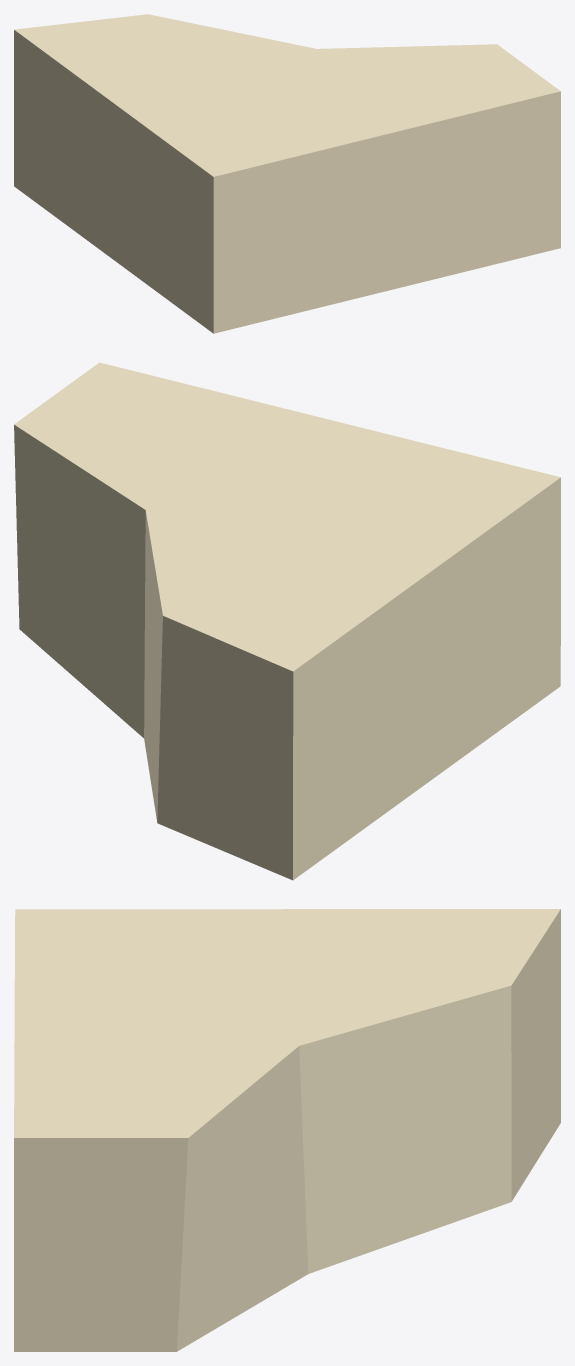
Rendered from Destroy_Plate_5.fbx.
3 renders of one model, top to bottom at view 1: azimuth 30°, elevation 25°; view 2: azimuth 150°, elevation 25°; view 3: azimuth 270°, elevation 25°, orthographic. The views are drawn at different scales.
Parts seen in each view (by area): view 1: Destroy_Plate_5; view 2: Destroy_Plate_5; view 3: Destroy_Plate_5.
Boxes of the visible parts, x1,y1,x2,y2 form: Destroy_Plate_5: [14, 14, 560, 333]; Destroy_Plate_5: [14, 362, 560, 880]; Destroy_Plate_5: [14, 909, 560, 1351].
Size of the model in its own units: 300 by 140 by 301.
